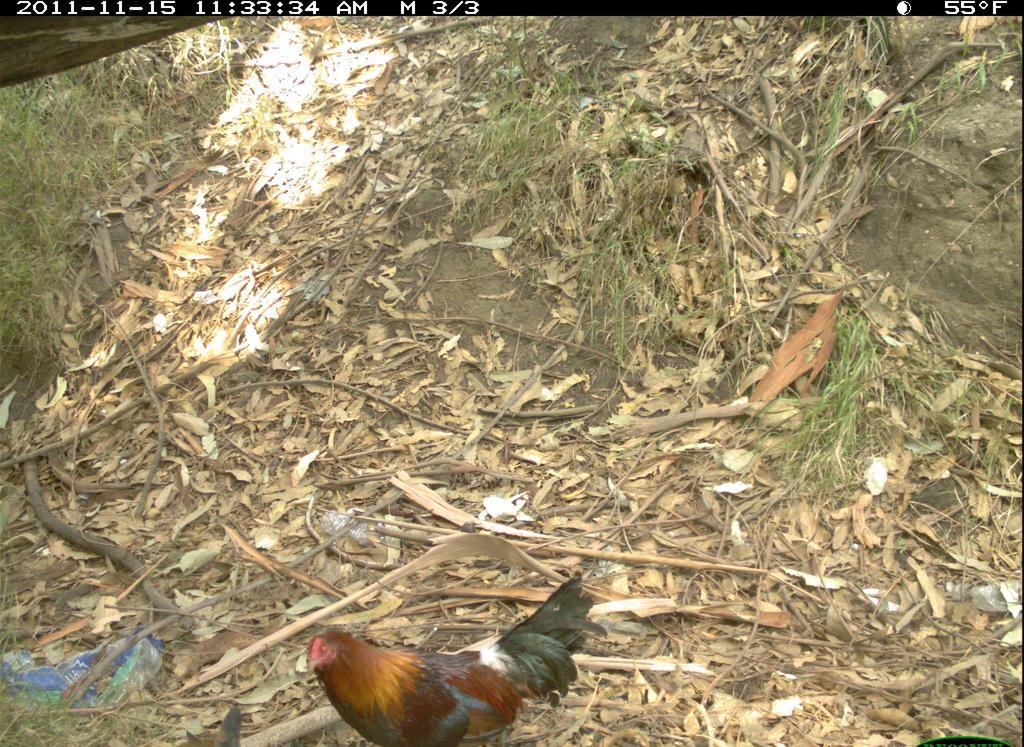bird: (290, 569, 604, 747)
